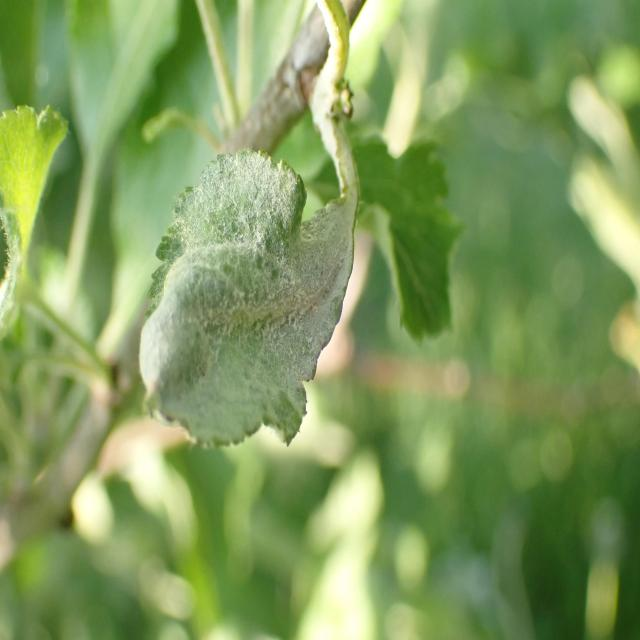Powdery_mildew: (133, 123, 365, 469)
